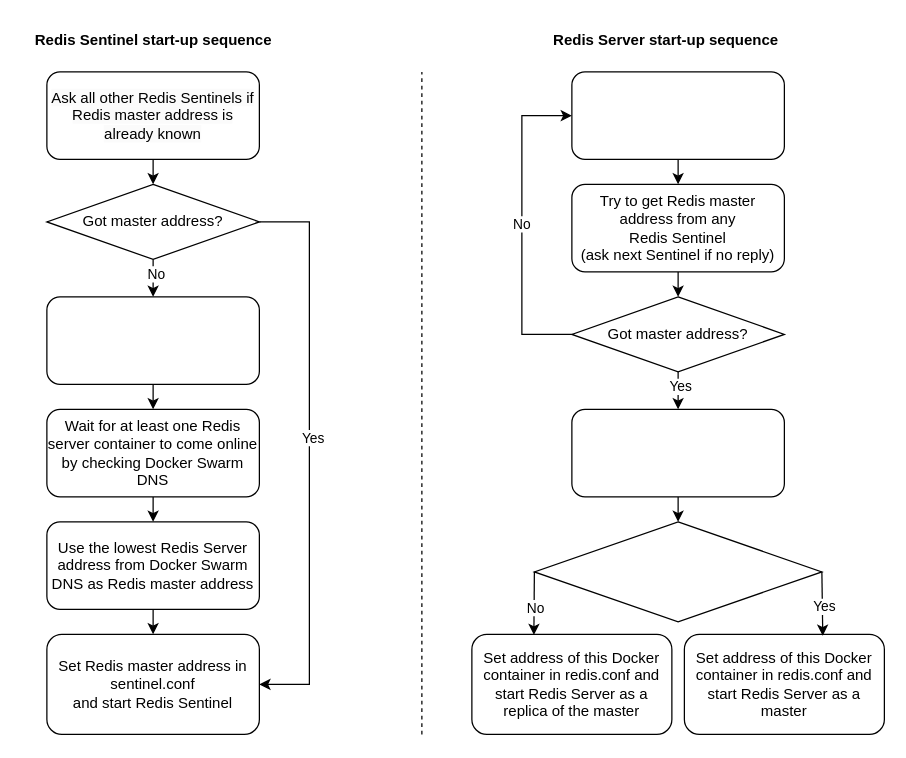
The diagram is 906 pixels wide and 758 high, and some of its shapes have lost their labels. Each missing label, with the box of its shape:
Get address of this Docker container: (571, 408, 784, 497)
Get addresses of the available Redis Sentinel servers from Docker Swarm DNS: (571, 71, 784, 159)
Is master address == this container address: (533, 521, 822, 622)
Wait for quorum of Redis Sentinel Docker containers by checking Docker Swarm DNS: (46, 296, 259, 384)
